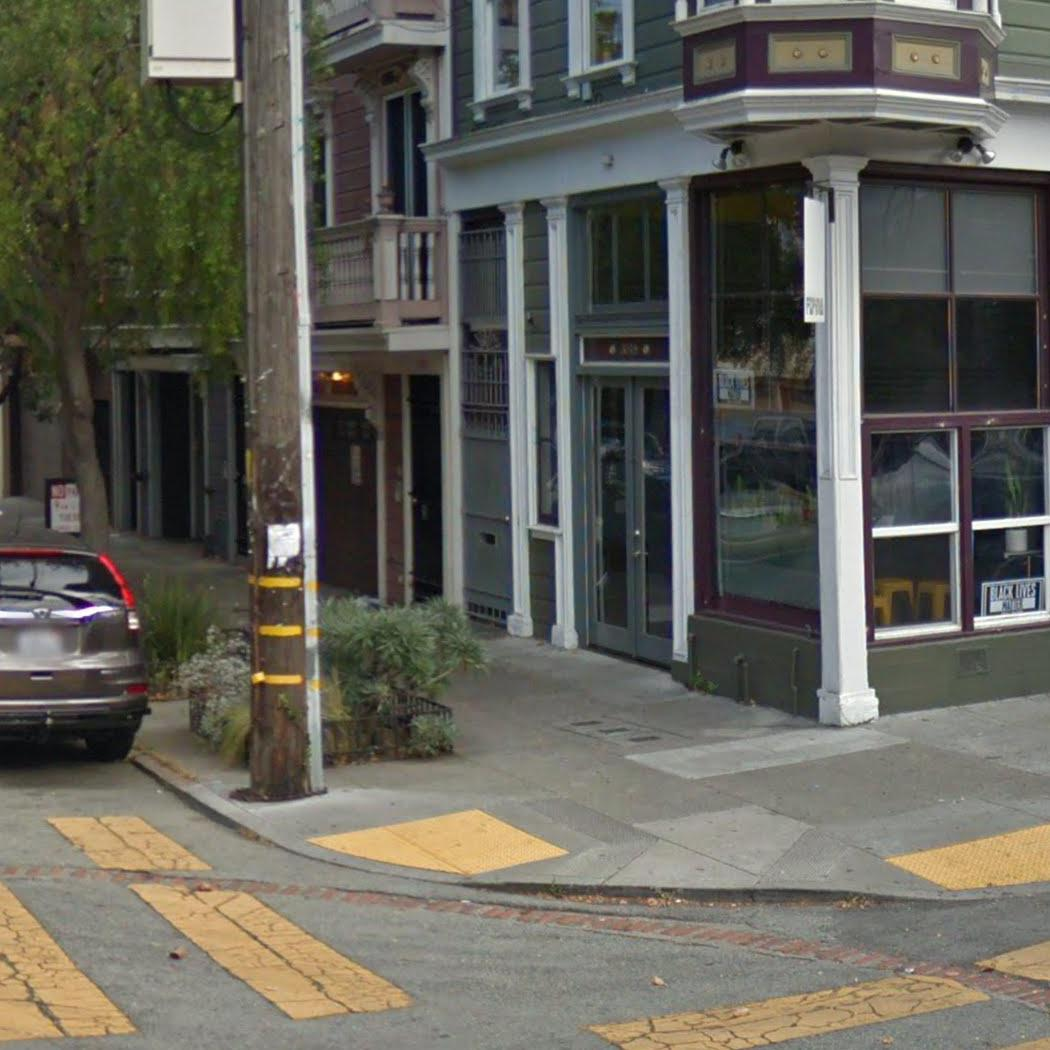No Parking: (47, 479, 83, 535)
